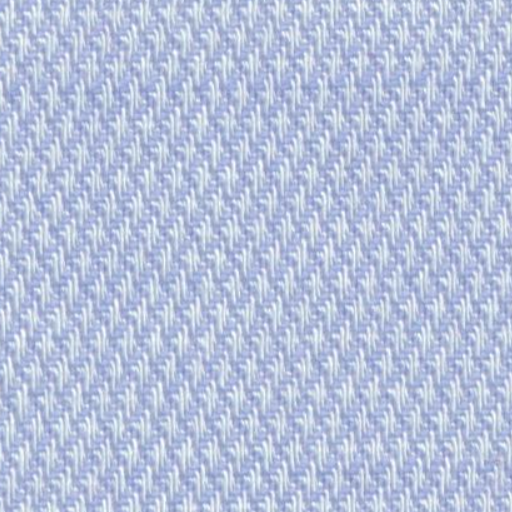TuoSha: (20, 51, 496, 127)
